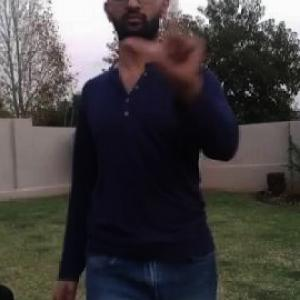land_hand: (124, 0, 217, 84)
